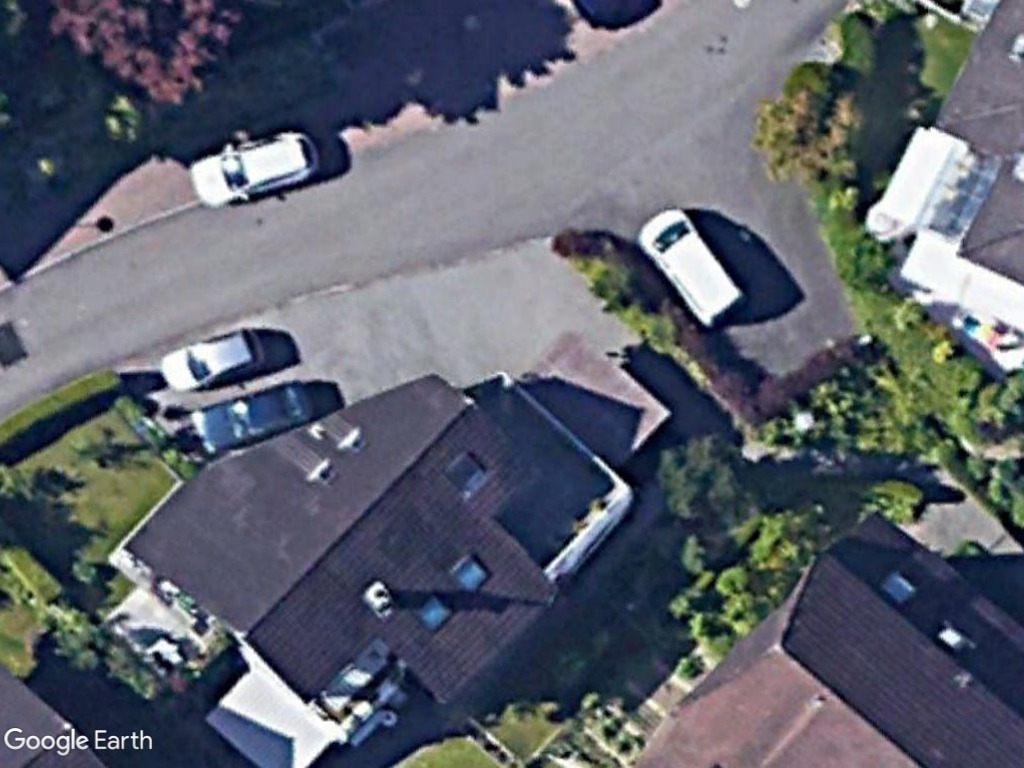car: (185, 128, 321, 213), (190, 376, 317, 457), (152, 322, 269, 396)
van: (636, 204, 748, 329)
